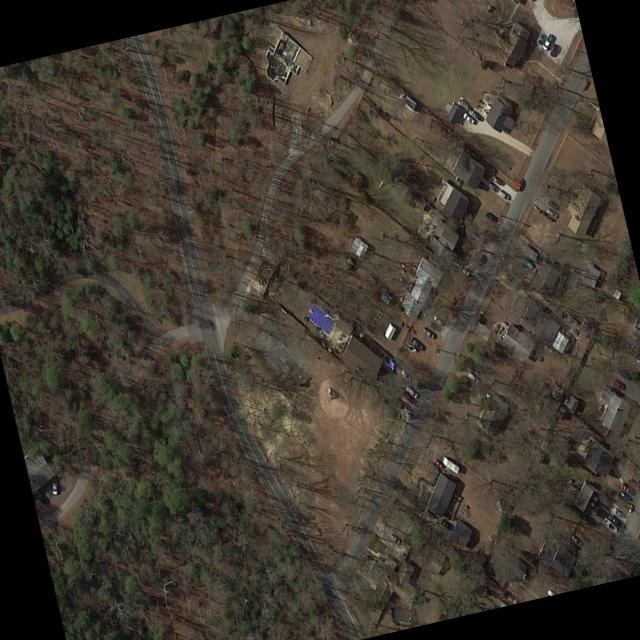large-vehicle: (409, 333, 425, 350), (460, 265, 476, 279), (542, 31, 554, 49), (431, 314, 445, 326), (51, 476, 57, 493)
ship: (601, 515, 618, 533), (404, 341, 417, 352)
small-vehicle: (607, 511, 623, 528), (619, 480, 634, 495), (404, 383, 418, 397), (401, 390, 415, 404), (485, 209, 500, 222), (570, 532, 583, 546), (420, 325, 434, 338), (466, 370, 480, 383), (611, 504, 625, 517), (470, 108, 483, 121), (387, 531, 400, 544), (619, 489, 633, 501), (548, 198, 560, 211), (612, 378, 625, 390), (399, 368, 411, 380), (498, 188, 510, 200), (462, 111, 474, 123), (545, 206, 558, 217), (439, 518, 452, 529), (33, 486, 44, 499), (548, 42, 558, 56), (487, 180, 499, 191), (536, 31, 545, 45), (477, 253, 486, 267), (491, 174, 502, 185), (515, 177, 524, 190), (432, 457, 442, 467), (628, 477, 639, 486)
